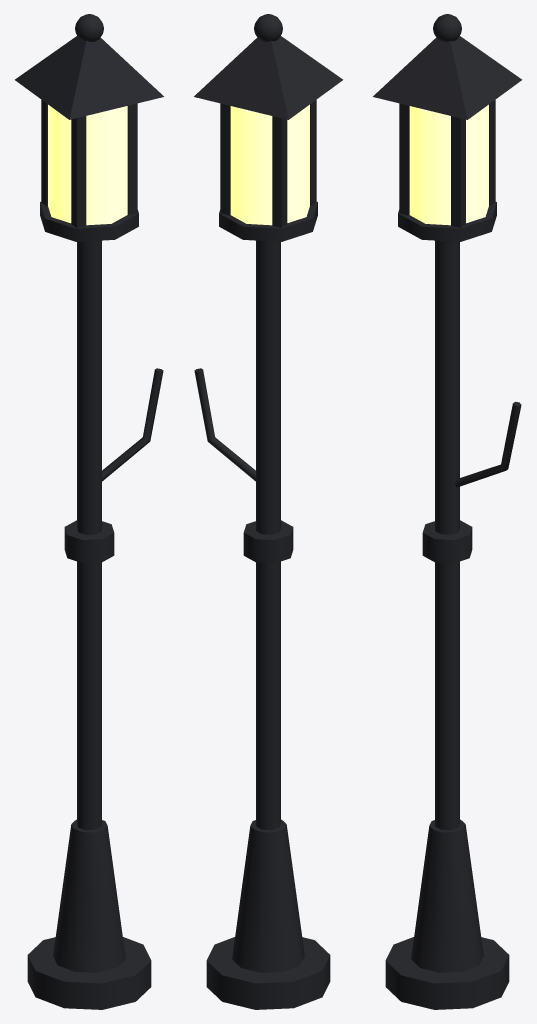
File: street_lamp.glb
3 views of the same model, side by side, from view 1: azimuth 30°, elevation 25°; view 2: azimuth 150°, elevation 25°; view 3: azimuth 330°, elevation 25° (orthographic).
Parts seen in each view (by area): view 1: root; view 2: root; view 3: root.
Boxes of the visible parts, x1,y1,x2,y2 form: root: [15, 14, 163, 1009]; root: [194, 14, 342, 1009]; root: [373, 14, 521, 1009].
Size of the model in its own units: 0.4002 by 2.92 by 0.3234.
